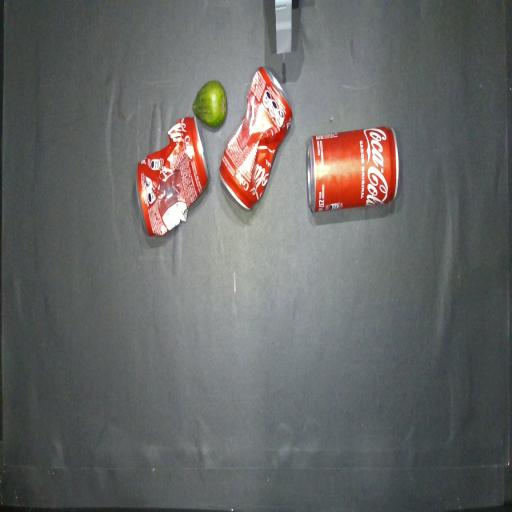higo: (193, 81, 227, 128)
lata: (307, 127, 399, 212)
lata_defectuoso: (219, 67, 292, 209), (136, 116, 209, 236)
